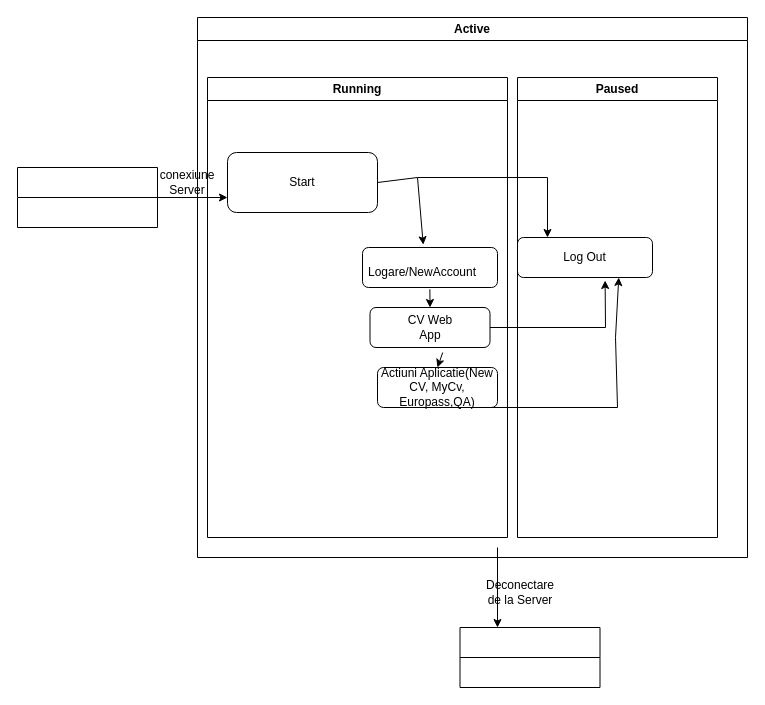
This 765x705 diagram has some shape labels left out. Each missing label, with the centre of its shape:
idle: point (87, 197)
Stopped: point (529, 657)
